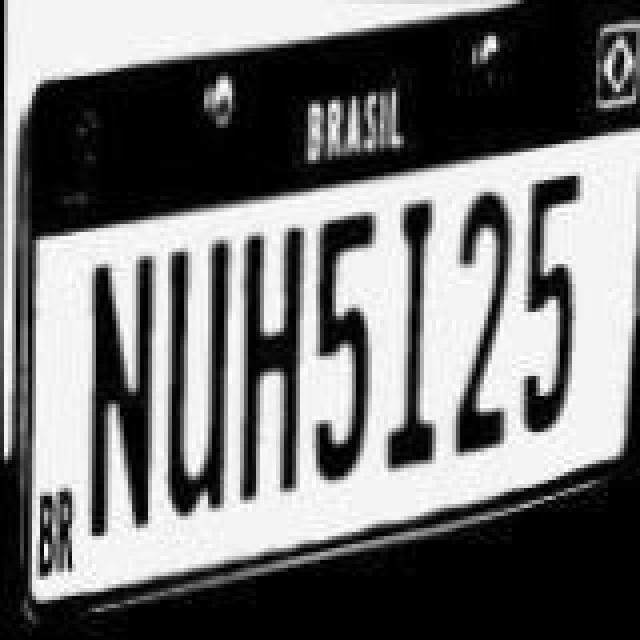2: (444, 174, 520, 458)
5: (310, 196, 382, 480), (520, 162, 588, 430)
H: (236, 214, 312, 502)
I: (380, 184, 448, 472)
N: (86, 246, 162, 554)
U: (158, 226, 234, 526)
